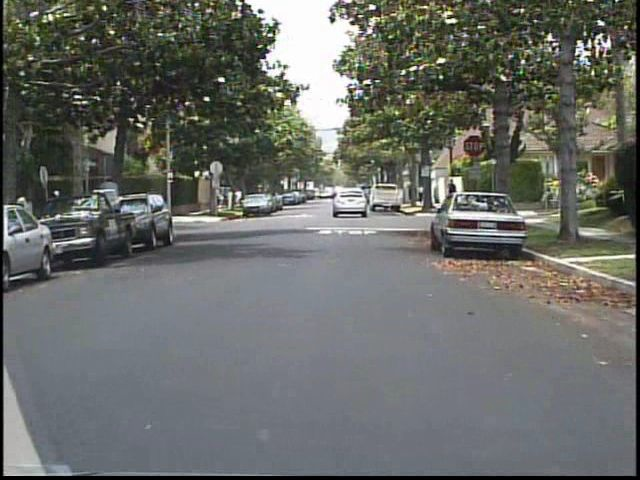person: (16, 183, 44, 266), (443, 176, 461, 213), (417, 181, 427, 205)
